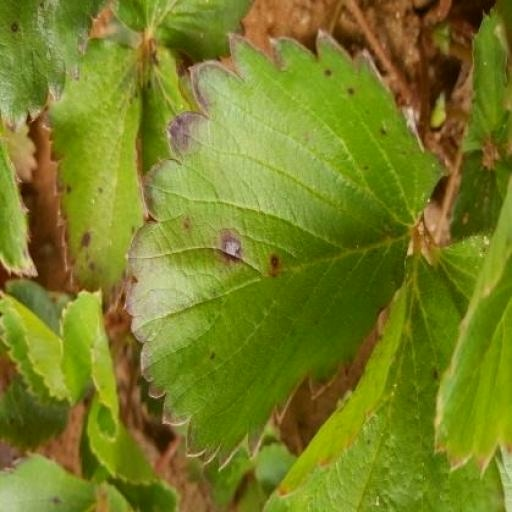Leaf Spot: (124, 40, 450, 485), (260, 0, 507, 259), (40, 195, 149, 474), (0, 376, 114, 511), (135, 334, 205, 471), (0, 233, 39, 379)
